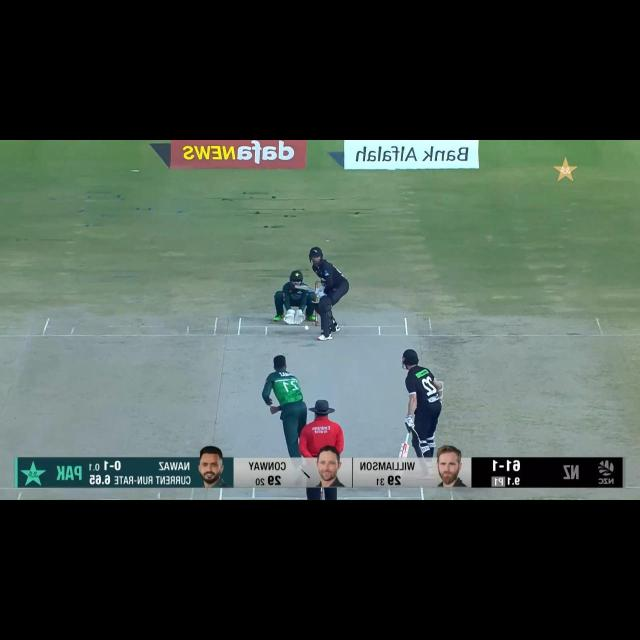bat: (294, 281, 316, 293), (397, 444, 411, 457)
toe: (293, 282, 308, 292)
